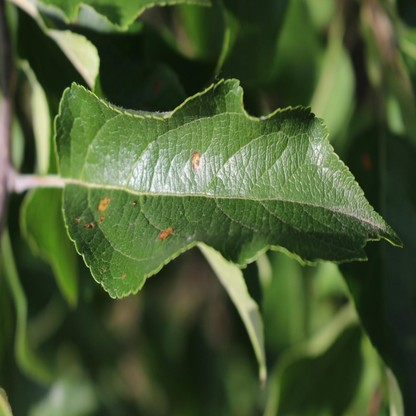rust: (159, 228, 174, 240), (99, 195, 109, 211), (192, 152, 200, 171), (84, 221, 94, 229), (100, 214, 105, 222), (132, 199, 136, 206)
